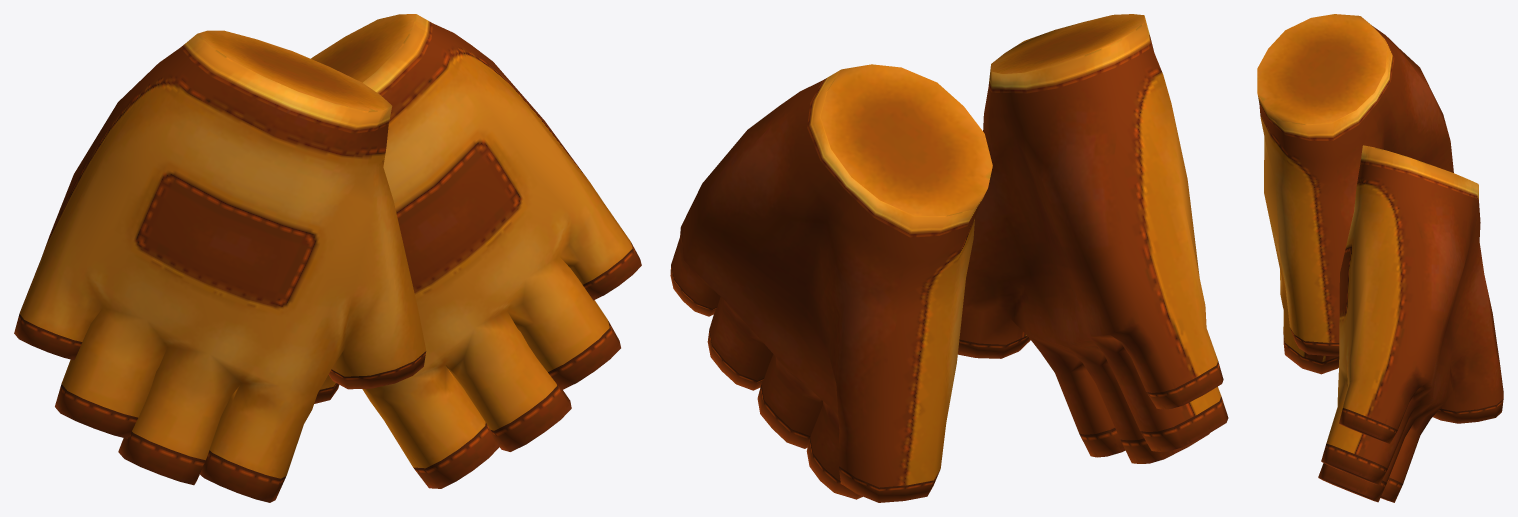
File: gloves.fbx
3 views of the same model, side by side, from view 1: azimuth 30°, elevation 25°; view 2: azimuth 150°, elevation 25°; view 3: azimuth 270°, elevation 25° (orthographic). The views are drawn at different scales.
Parts seen in each view (by area): view 1: node_id47; view 2: node_id47; view 3: node_id47.
Boxes of the visible parts, <box> form: node_id47: <box>14,14,641,502</box>; node_id47: <box>670,14,1228,502</box>; node_id47: <box>1257,14,1503,502</box>.
Bounding box in the file's own units: 0.512 × 0.4301 × 0.244.
1 material, 1 textured.
